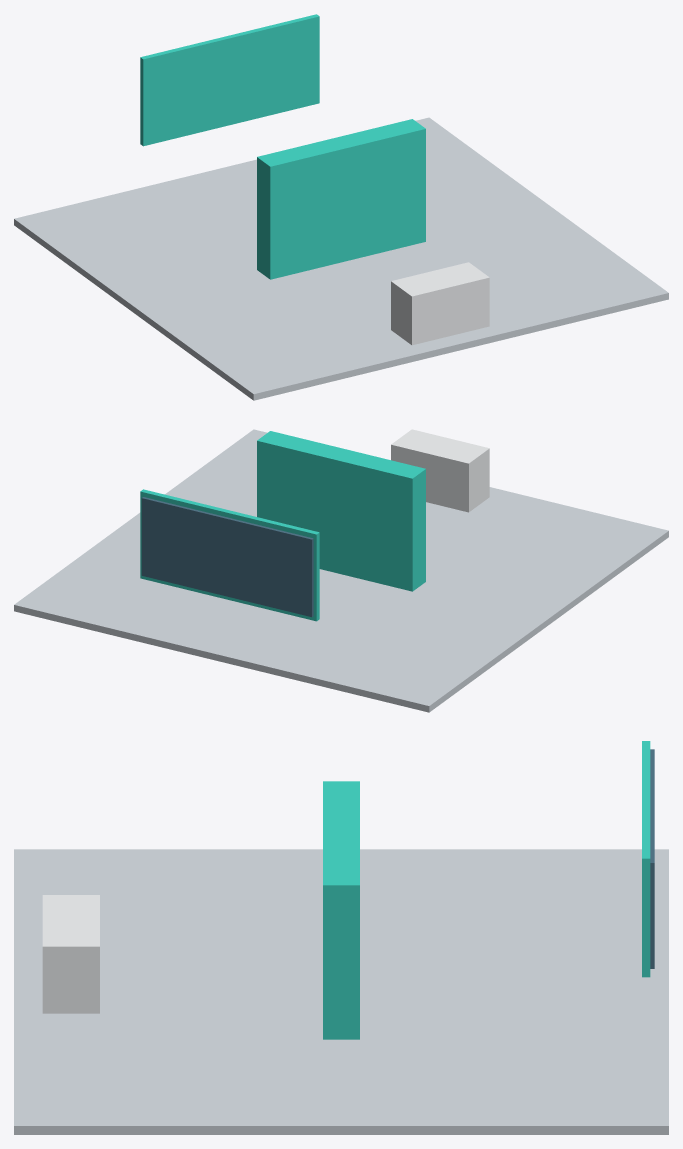
3 views of the same model, one above another, from view 1: azimuth 30°, elevation 25°; view 2: azimuth 150°, elevation 25°; view 3: azimuth 270°, elevation 25° (orthographic). The views are drawn at different scales.
Parts seen in each view (by area): view 1: Exhibition Booth Concept; view 2: Exhibition Booth Concept; view 3: Exhibition Booth Concept.
Part boxes in pixels (x1=…): Exhibition Booth Concept: x1=14, y1=14, x2=668, y2=400; Exhibition Booth Concept: x1=14, y1=429, x2=668, y2=712; Exhibition Booth Concept: x1=14, y1=741, x2=668, y2=1134.
Size of the model in its own units: 8 by 2.65 by 8.
